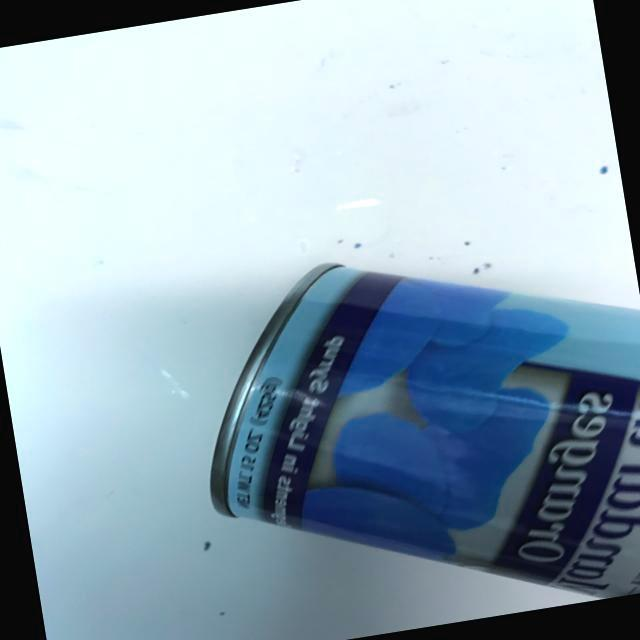metal: (168, 209, 640, 640)
